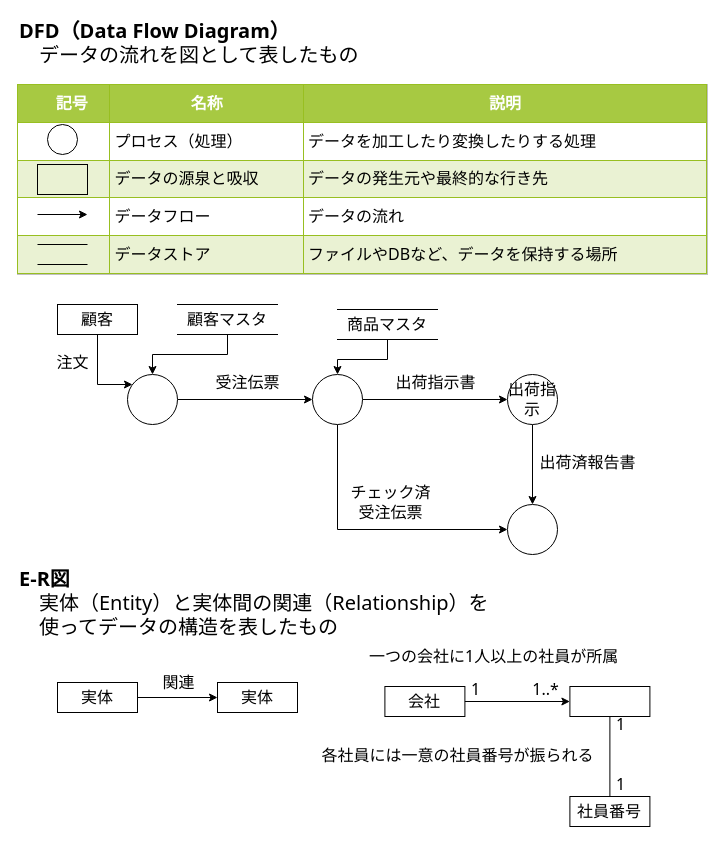
This 725x844 diagram has some shape labels left out. The box of each missing label's shape, as (x1, y1, x2, y2) in pixels:
受注: (126, 374, 178, 424)
在庫確認: (312, 374, 362, 424)
売上計上: (506, 504, 558, 554)
社員: (569, 686, 650, 716)
